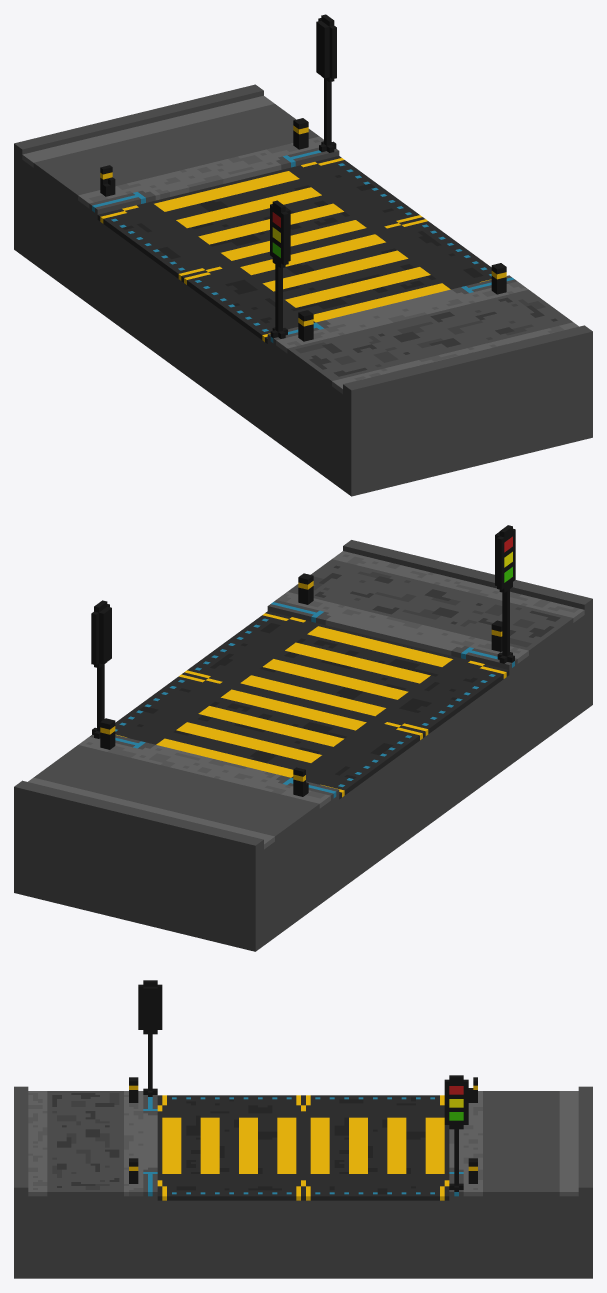
The model's file is Road3.obj.
3 renders of one model, top to bottom at view 1: azimuth 30°, elevation 25°; view 2: azimuth 150°, elevation 25°; view 3: azimuth 270°, elevation 25°, orthographic. The views are drawn at different scales.
Bounding box in the file's own units: 50 × 46 × 121.
1 material, 1 textured.
